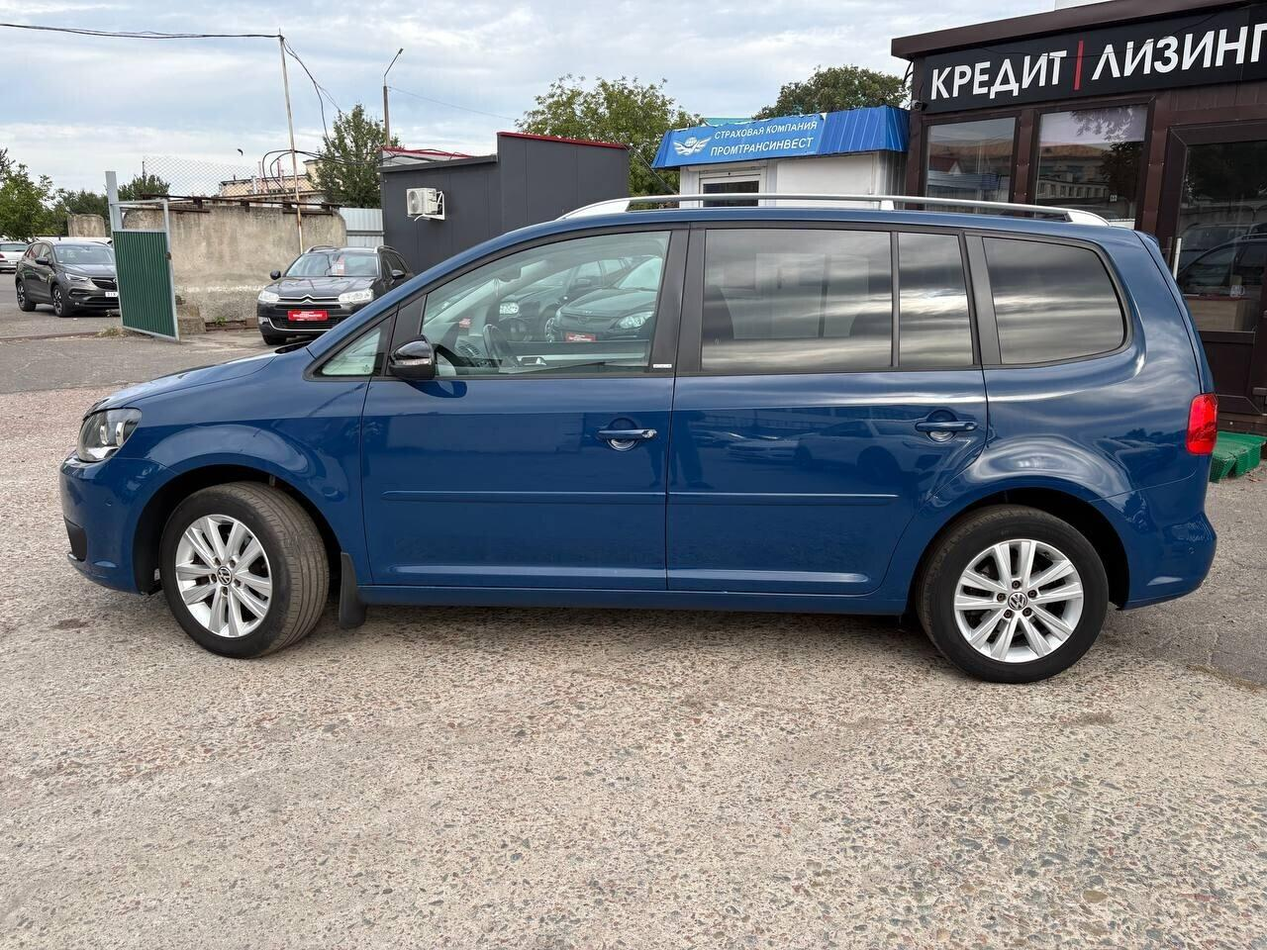Touran_2010-2015: (54, 194, 1221, 683)
